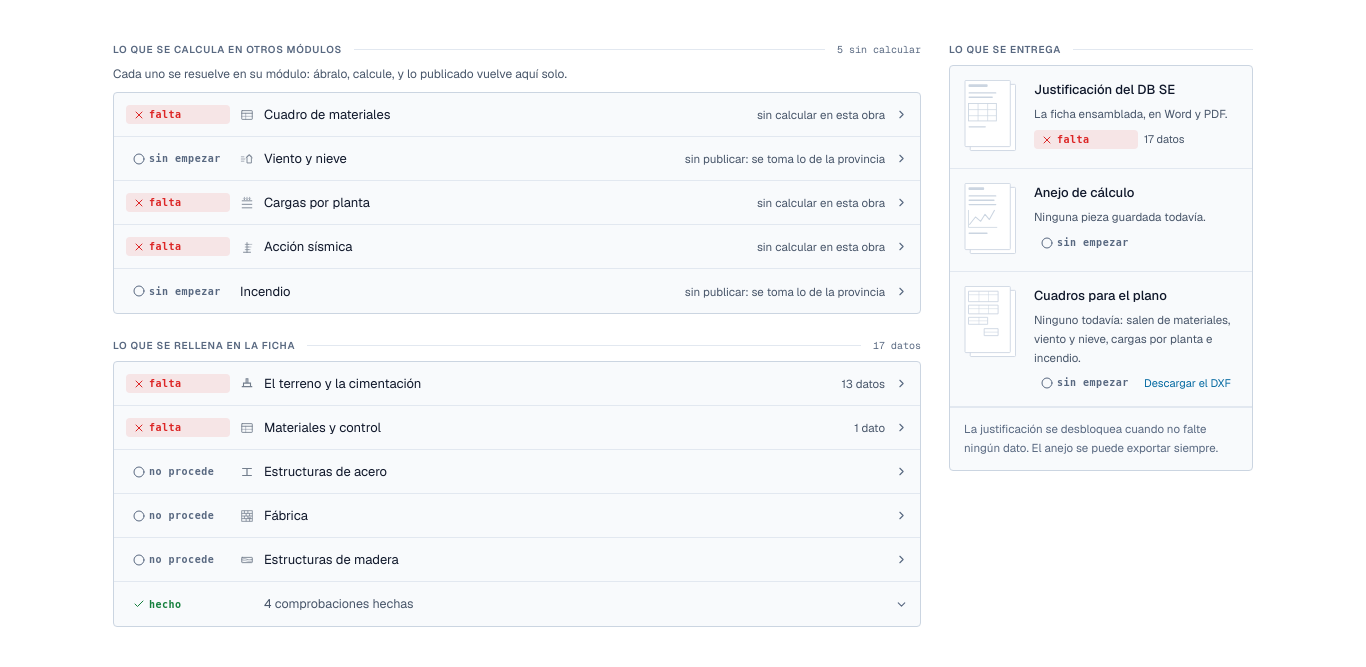
Scenario: una obra a medias › lo hecho se pliega y lo que falta sale entero (R1)
This screenshot has width=1366, height=667.
(page scrolled)
Expected: the link with aria-label "El terreno y la cimentación: falta" is shown, [114,362,920,406]
Click the button "hecho 4 comprobaciones hechas" at (165, 604), box [114,582,920,626]
(page scrolled)
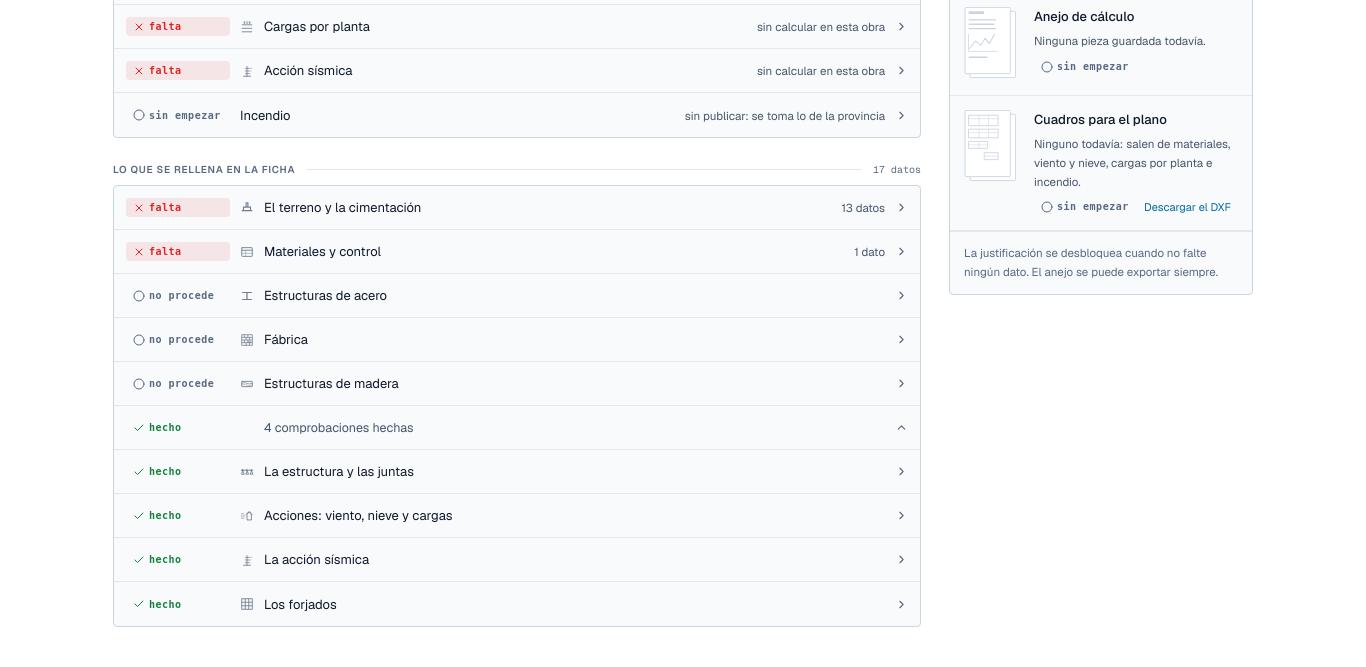
Now the button "hecho 4 comprobaciones hechas" is expanded, box [114,406,920,450]
Now the link with aria-label "La estructura y las juntas: hecho" is shown, box [114,450,920,494]
